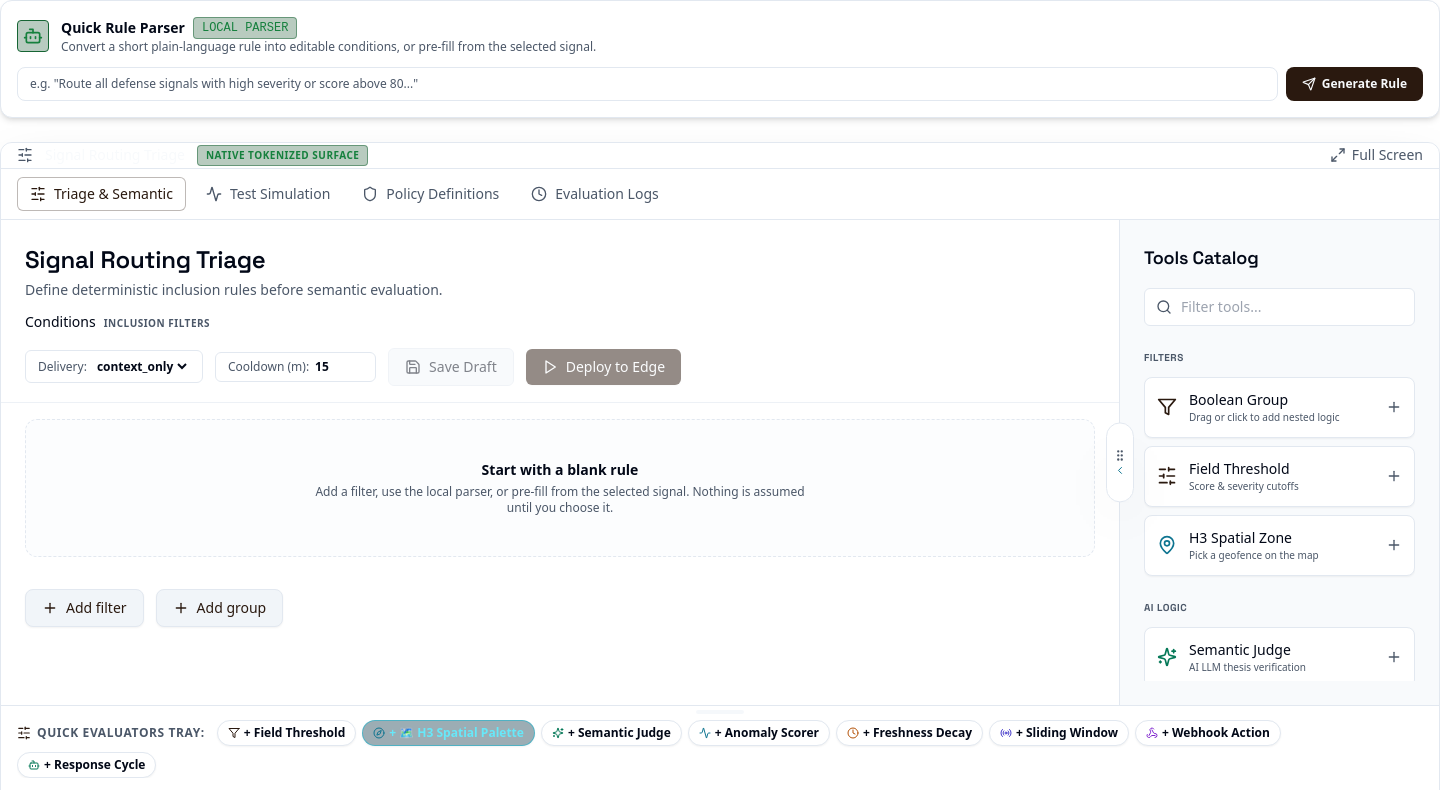
it: RuleBuilder Component › switches to Evaluation Logs tab and renders audit trail items
The image size is (1440, 790).
Click the button "Evaluation Logs": click(595, 194) x1=519 y1=178 x2=671 y2=210
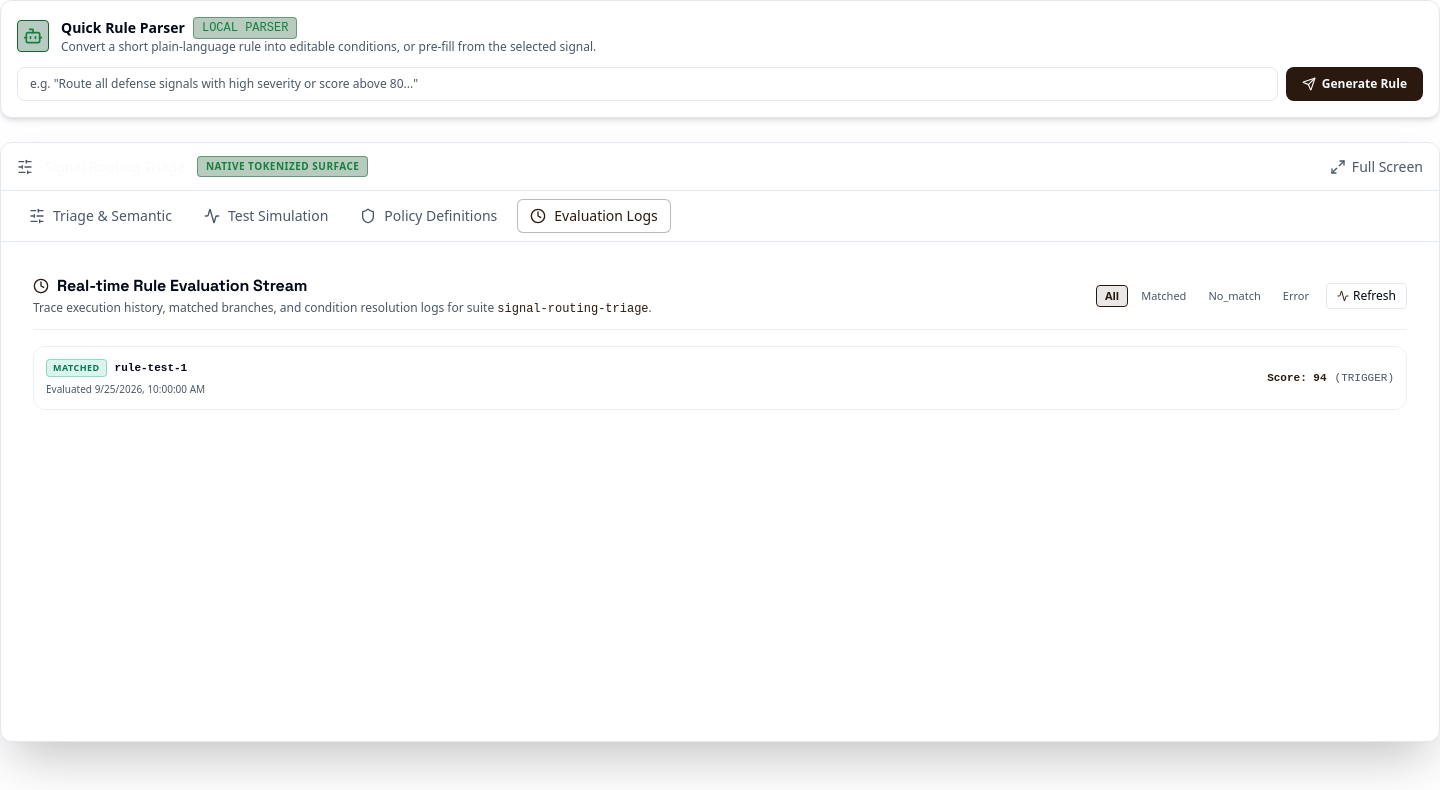
Expected: the heading "Real-time Rule Evaluation Stream" is shown, x1=33 y1=275 x2=307 y2=296
Expected: the button with test id "btn-refresh-audits" is shown, x1=1326 y1=282 x2=1407 y2=308
Expected: the text "rule-test-1" is shown, x1=115 y1=360 x2=187 y2=376
